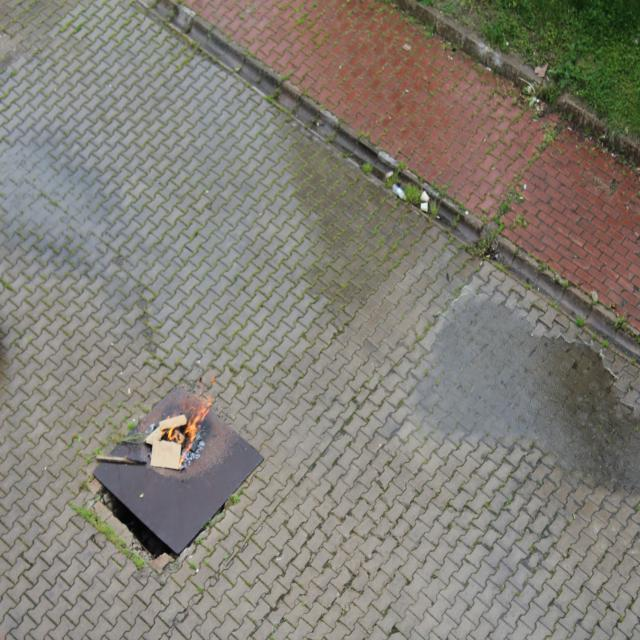fire: (167, 384, 216, 456)
